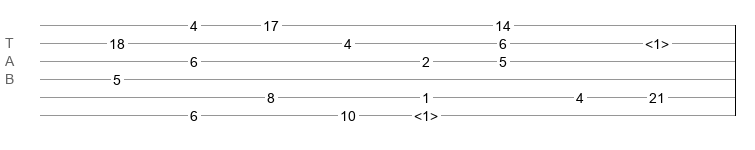1: (422, 90, 430, 100)
10: (340, 108, 356, 118)
14: (495, 18, 511, 28)
17: (263, 18, 279, 28)
18: (109, 36, 125, 46)
2: (422, 54, 430, 64)
21: (649, 90, 665, 100)
4: (190, 18, 198, 28), (344, 36, 352, 46), (576, 90, 584, 100)
5: (113, 72, 121, 82), (499, 54, 507, 64)
6: (190, 108, 198, 118), (190, 54, 198, 64), (499, 36, 507, 46)
8: (267, 90, 275, 100)
harmonic: (414, 108, 438, 118), (645, 36, 669, 46)
